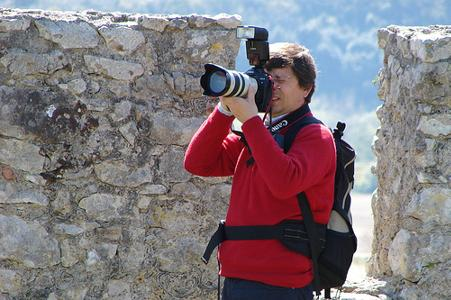person: (185, 42, 336, 300)
